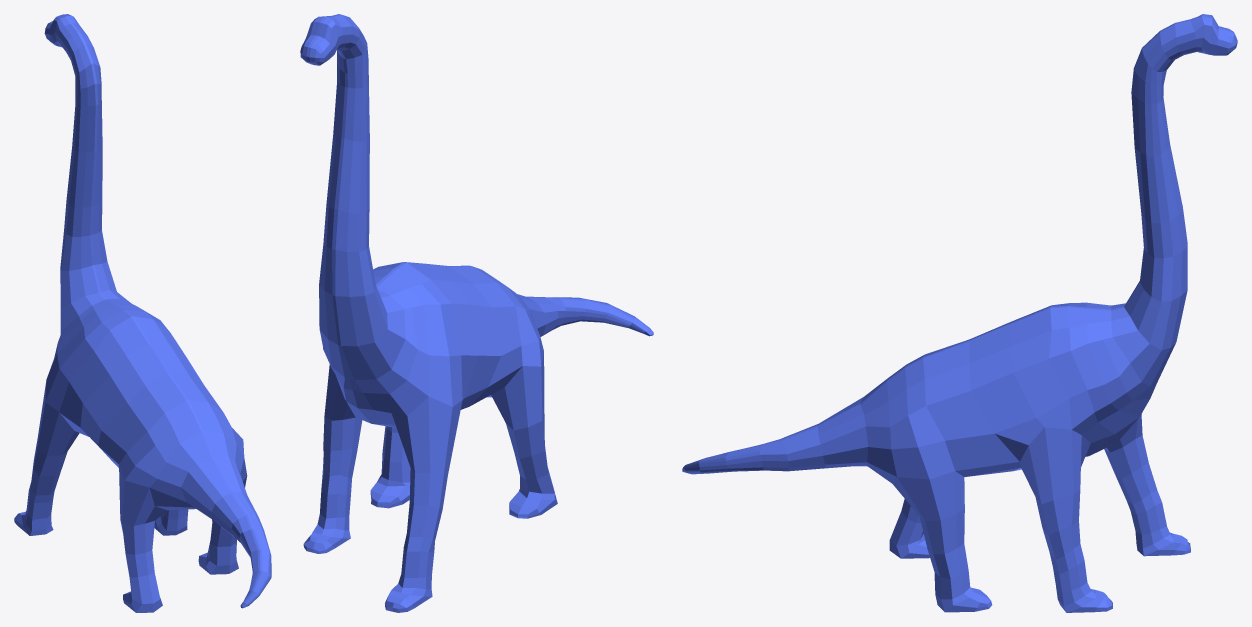
The picture shows the model from 3 angles, left to right: view 1: azimuth 30°, elevation 25°; view 2: azimuth 150°, elevation 25°; view 3: azimuth 270°, elevation 25°; orthographic projection. The views are drawn at different scales.
Parts seen in each view (by area): view 1: Plane; view 2: Plane; view 3: Plane.
Boxes of the visible parts, left/top/right/bottom form: Plane: left=14, top=14, right=271, bottom=612; Plane: left=300, top=14, right=653, bottom=612; Plane: left=682, top=14, right=1237, bottom=612.
Bounding box in the file's own units: 39.85 × 145 × 130.
